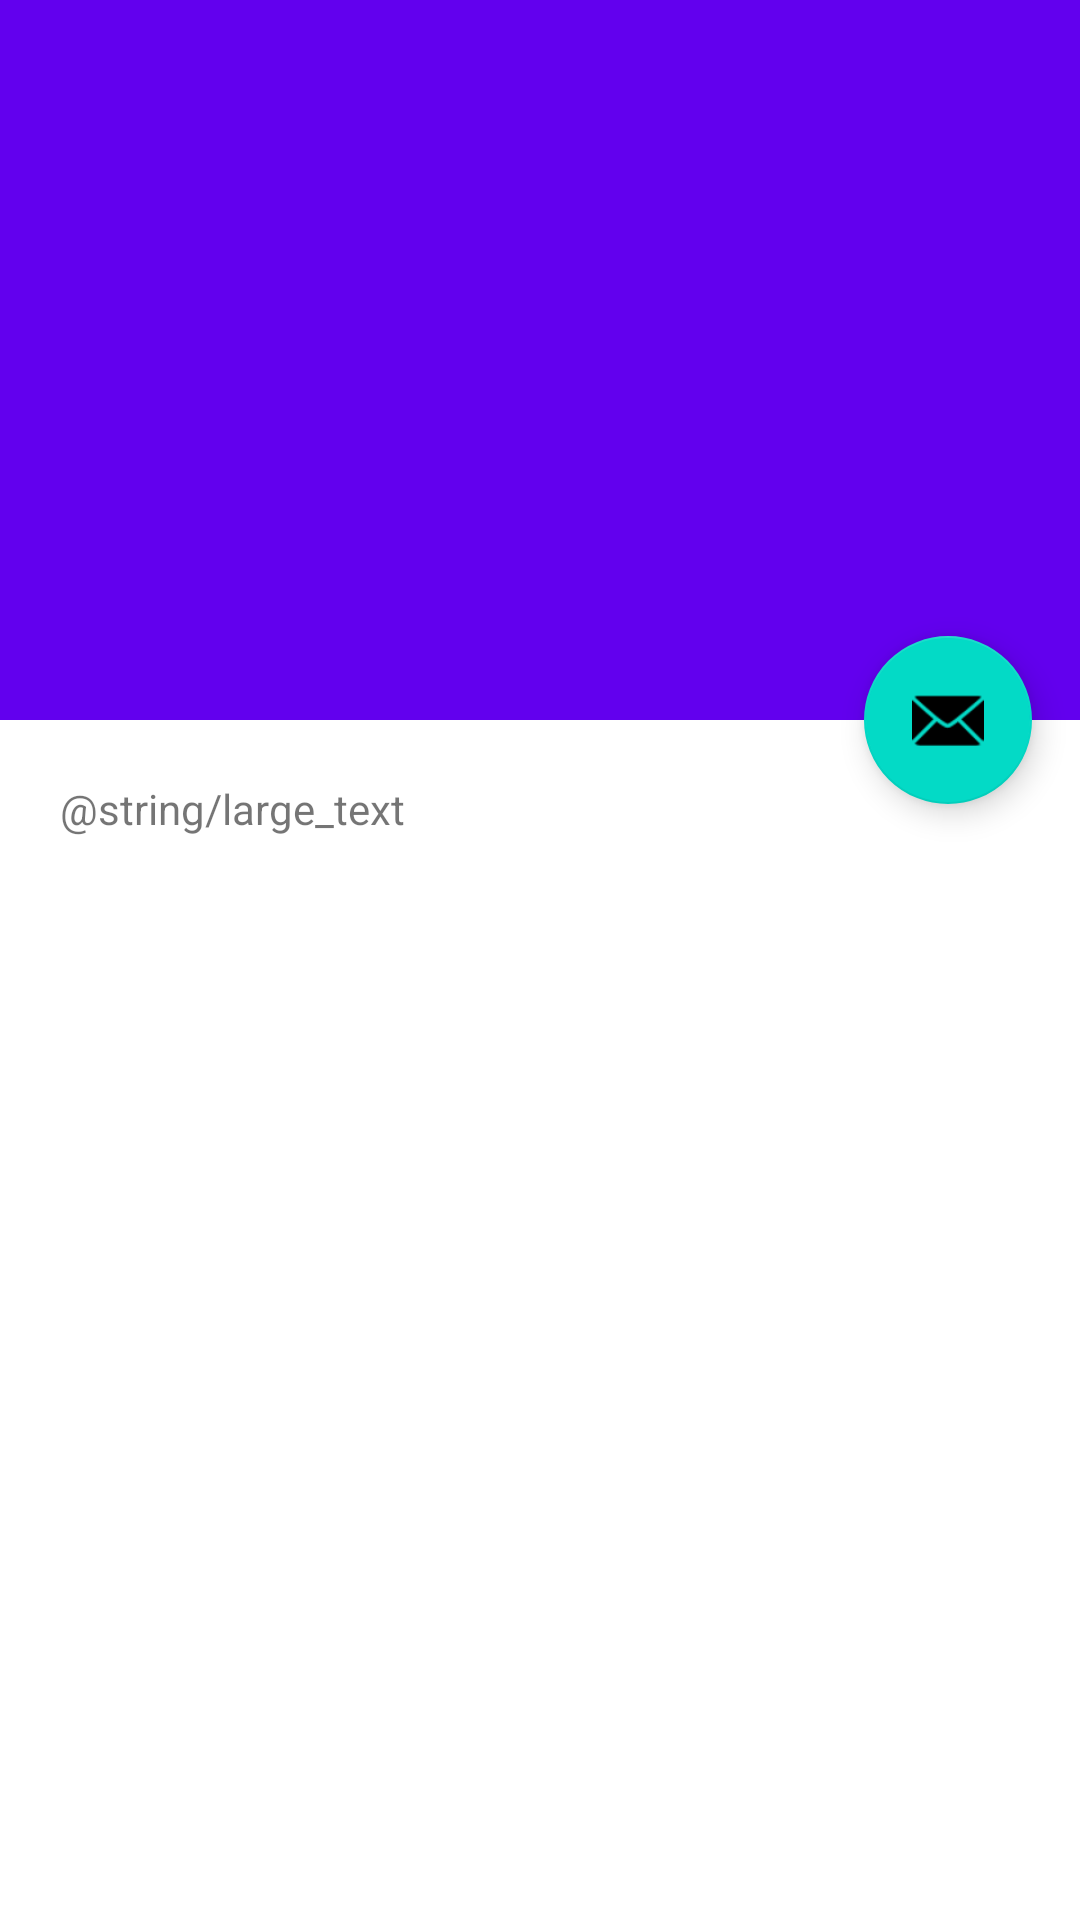

Screen size 1080px x 1920px. Icon name, then its center in pixels as point (x, y):
email: point (948, 720)
